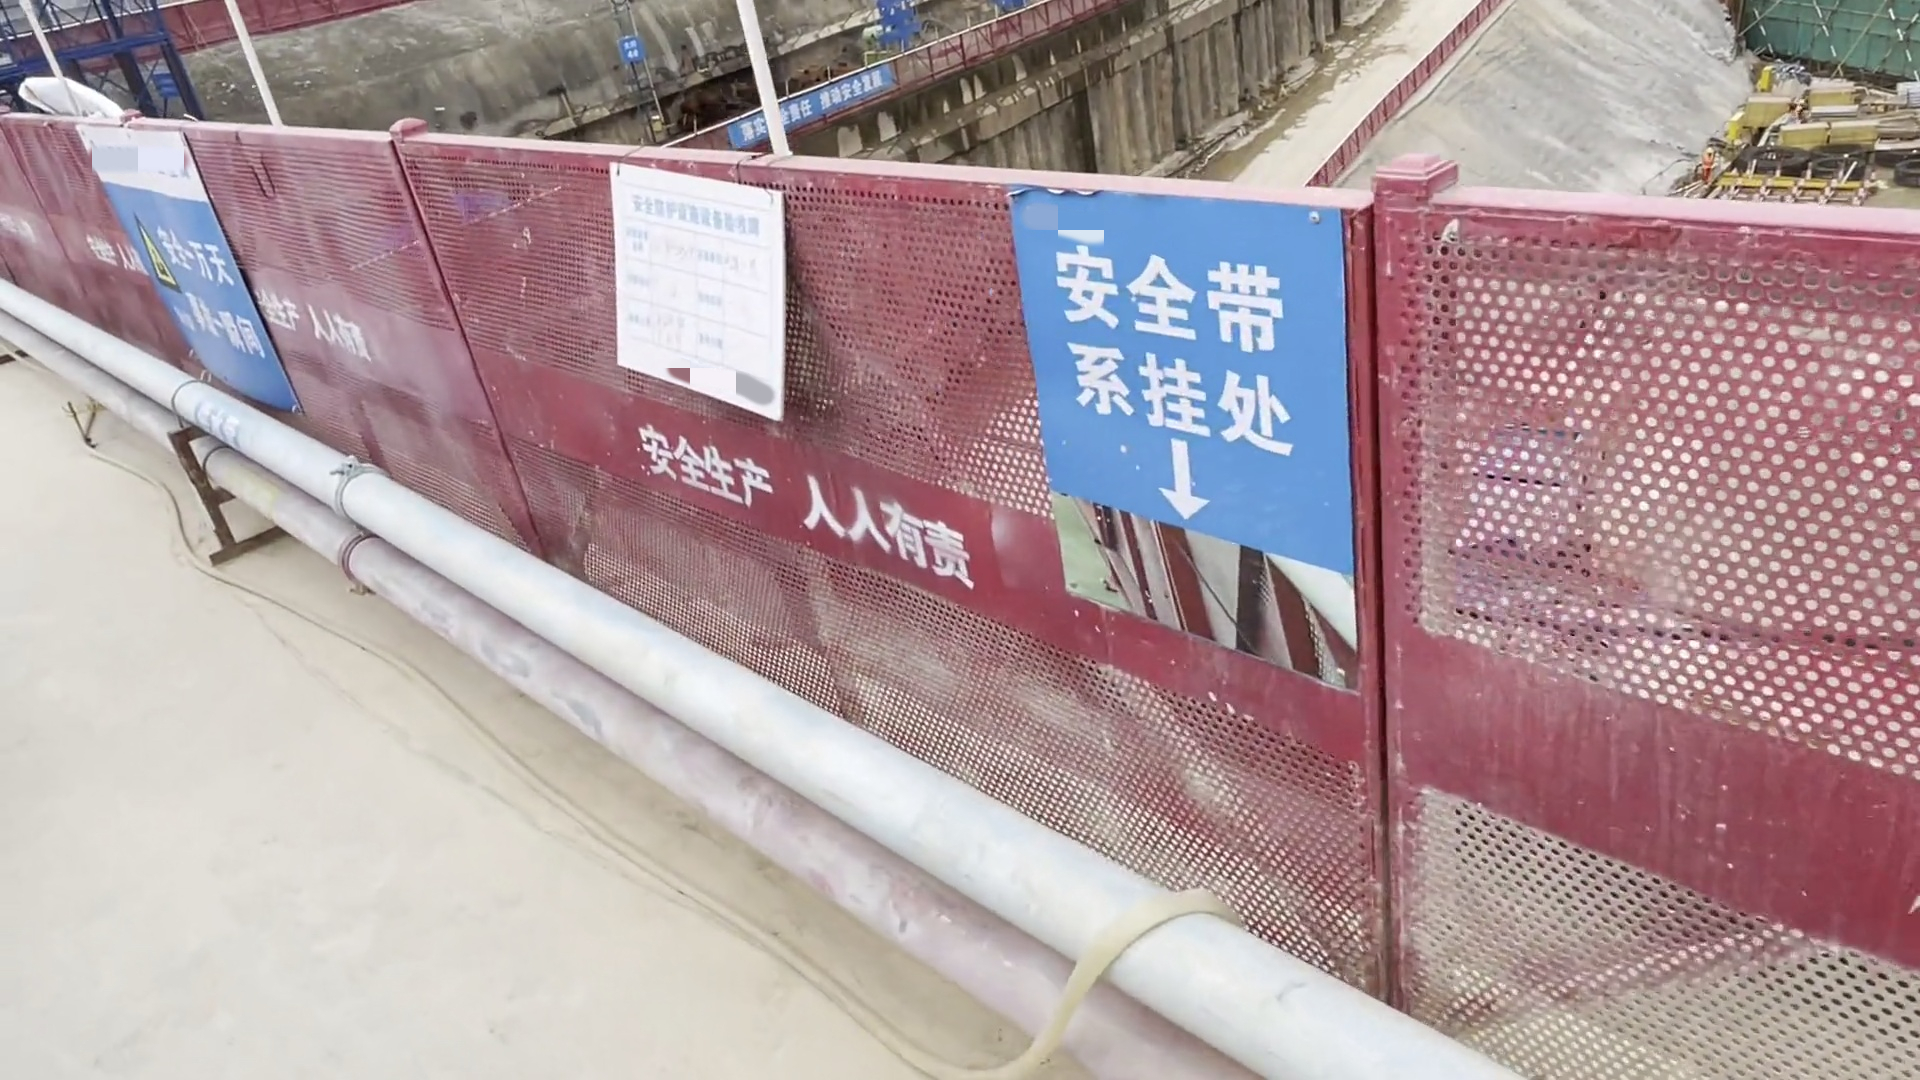fence: (381, 146, 1916, 766)
slogan: (980, 170, 1371, 582), (70, 123, 301, 411), (723, 61, 909, 161)
